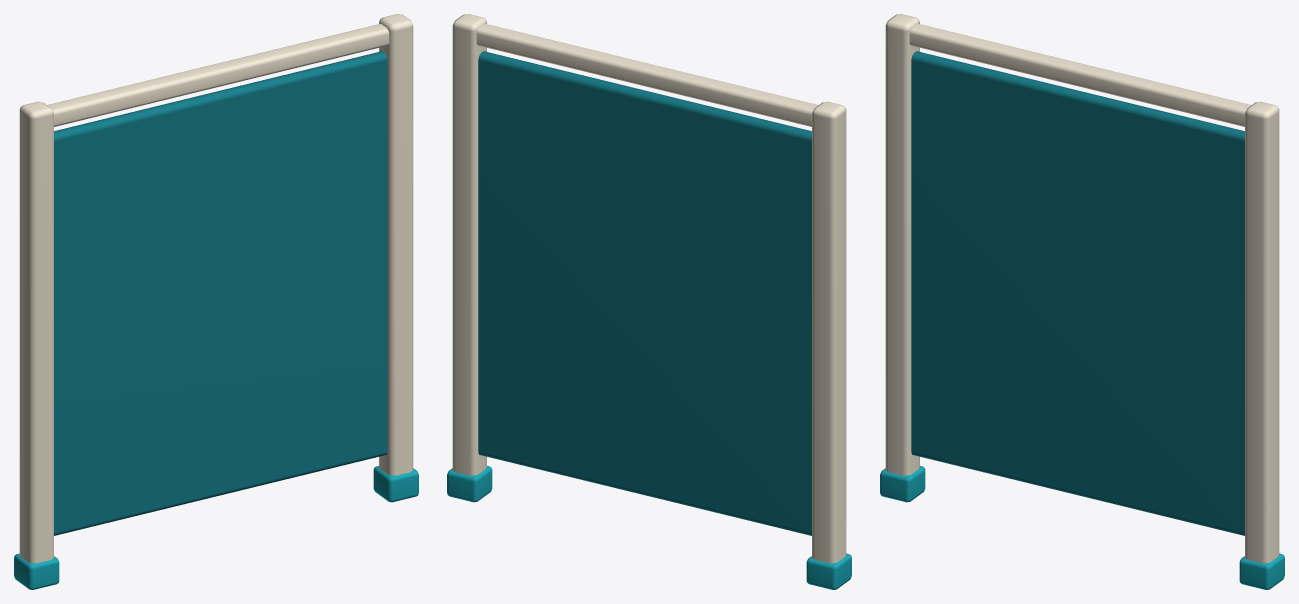
Rendered from Restroom_Stall_Partition.glb.
3 views of the same model, side by side, from view 1: azimuth 30°, elevation 25°; view 2: azimuth 150°, elevation 25°; view 3: azimuth 330°, elevation 25° (orthographic).
Parts seen in each view (by area): view 1: Restroom_Stall_Partition__Visual; view 2: Restroom_Stall_Partition__Visual; view 3: Restroom_Stall_Partition__Visual.
Part boxes in pixels (left/top/right/bottom): Restroom_Stall_Partition__Visual: left=14, top=14, right=418, bottom=589; Restroom_Stall_Partition__Visual: left=447, top=14, right=851, bottom=589; Restroom_Stall_Partition__Visual: left=880, top=14, right=1284, bottom=589.
Size of the model in its own units: 1.89 by 2.2 by 0.15.
1 material, 1 textured.
